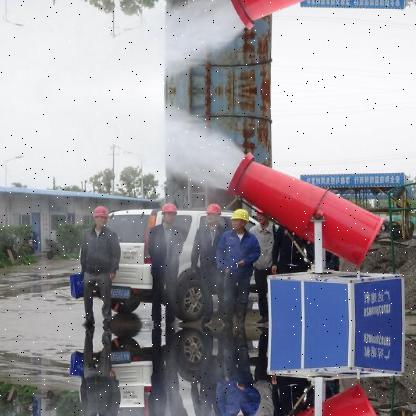helmet: (231, 206, 253, 231), (160, 199, 181, 225), (92, 203, 112, 224), (205, 199, 222, 223)
